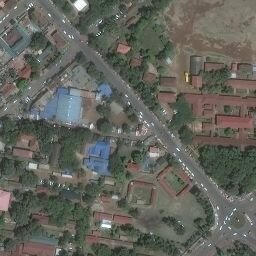tree: (179, 125, 193, 145), (31, 32, 47, 49), (19, 171, 38, 185), (227, 168, 243, 181), (85, 183, 97, 197), (97, 119, 109, 132), (3, 238, 15, 251), (96, 105, 111, 115), (131, 151, 143, 162), (121, 224, 134, 234), (86, 64, 96, 75), (117, 198, 127, 208), (128, 208, 138, 218), (16, 79, 27, 88), (58, 237, 67, 248), (63, 231, 72, 241), (76, 53, 85, 62), (122, 124, 130, 134), (128, 114, 138, 122), (224, 128, 233, 136), (158, 51, 166, 60), (193, 217, 202, 225), (224, 105, 231, 113), (125, 172, 133, 178)
